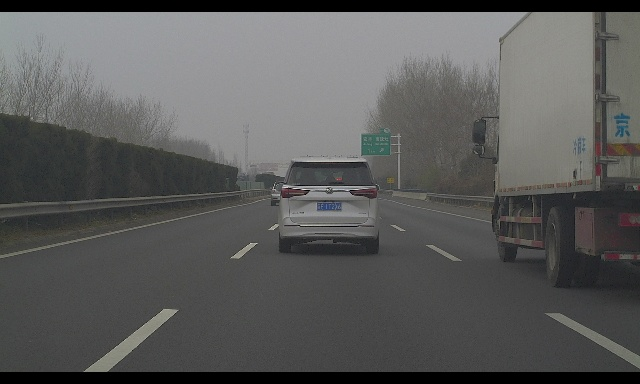car: (275, 155, 380, 254), (270, 180, 296, 206)
truck: (472, 12, 640, 288), (233, 172, 257, 189)
